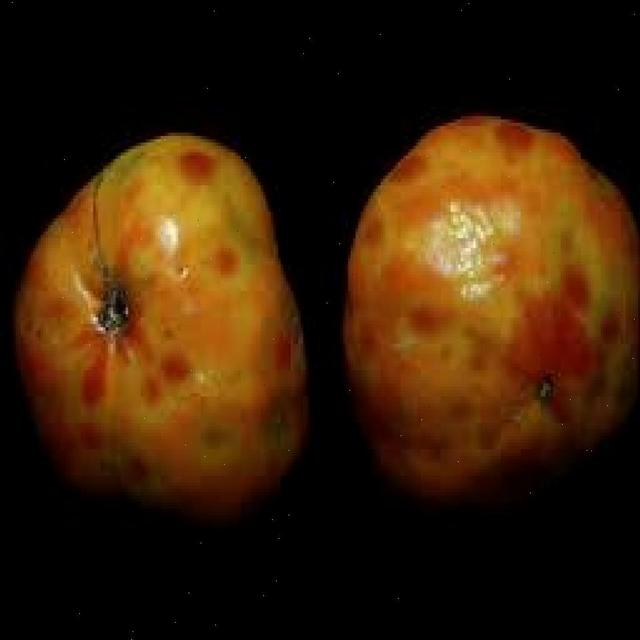Spotted wilt Virus Fruit: (106, 204, 328, 261)
